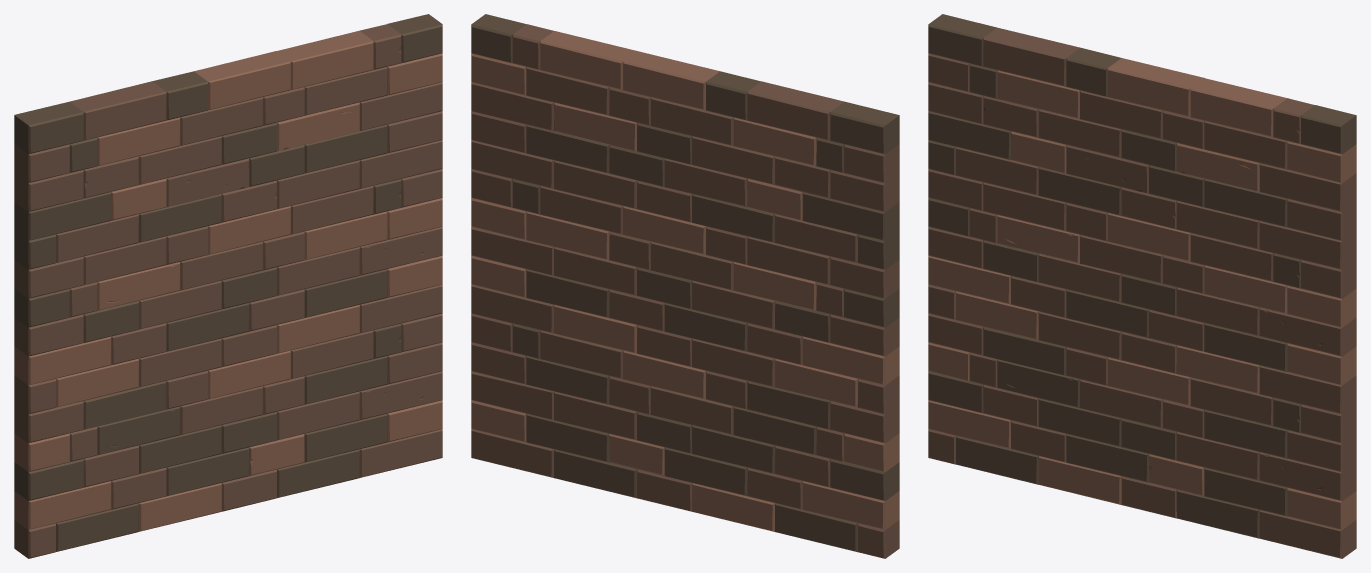
The model's file is victorian_wall_brick_1.fbx.
3 views of the same model, side by side, from view 1: azimuth 30°, elevation 25°; view 2: azimuth 150°, elevation 25°; view 3: azimuth 330°, elevation 25° (orthographic).
Visible parts, largest first — view 1: Cube.164; view 2: Cube.164; view 3: Cube.164.
Part boxes in pixels (x1,y1,x2,y2): Cube.164: (14,14,442,558); Cube.164: (471,14,899,558); Cube.164: (928,14,1356,558).
Size of the model in its own units: 300 by 300 by 20.
